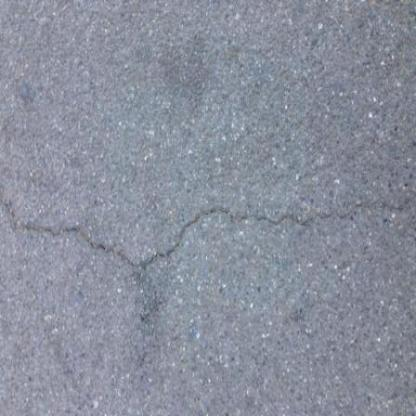Cracks: (0, 189, 416, 275)
